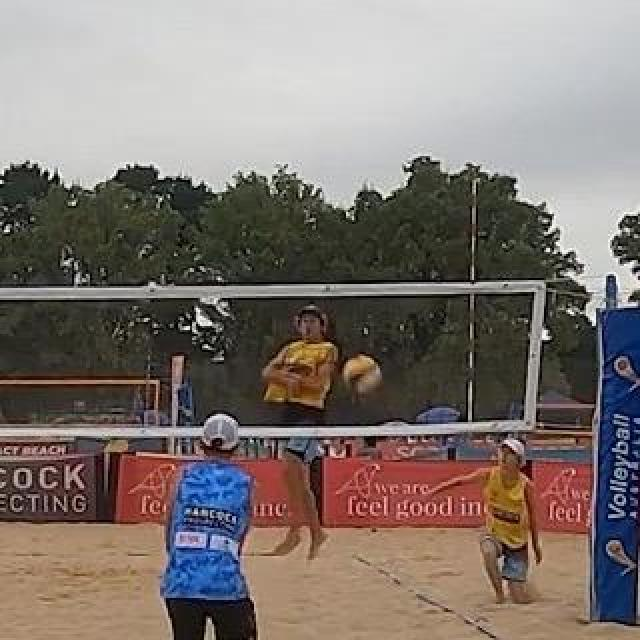volleyball: (343, 353, 381, 393)
